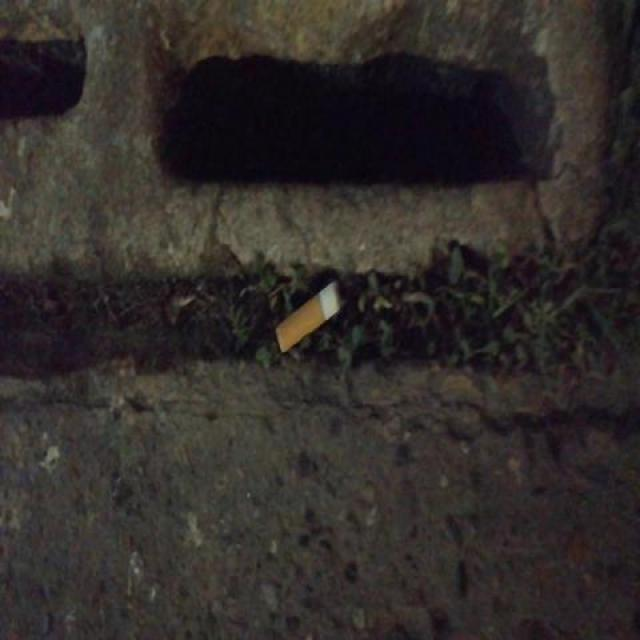non-organic waste: (268, 276, 356, 360)
